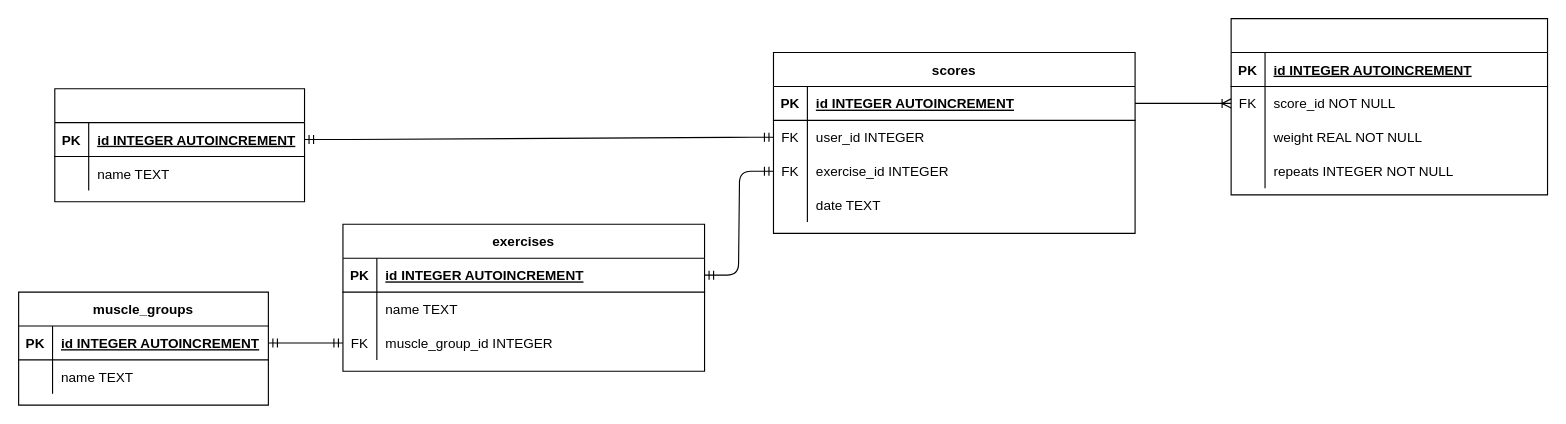
The diagram is 1566 pixels wide and 424 high, and some of its shapes have lost their labels. The shapes that lost their labels are listed below. From the top down, each one's box as (x1, y1, x2, y2) in pixels, then its label:
(1230, 18, 1548, 195): sets
(54, 88, 305, 202): users
